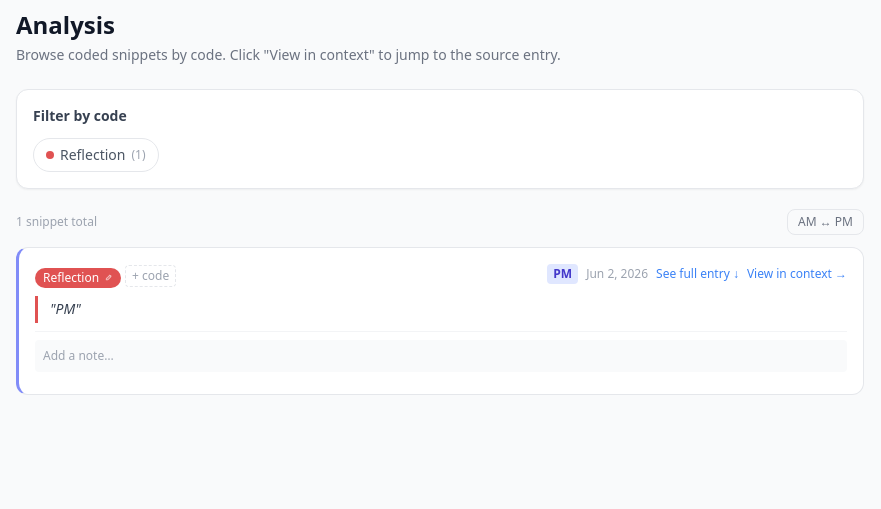
AnalysisView – AM ↔ PM compare mode › shows a placeholder for a day that has no AM snippets
The width and height of the screenshot is (881, 509).
Click the button "AM ↔ PM": (826,222) top-left (787, 209), bottom-right (864, 235)
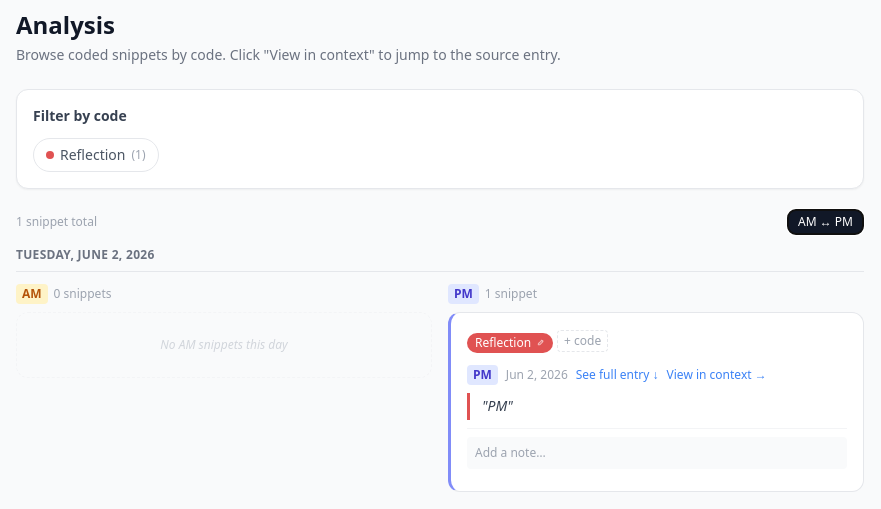
Now the text "No AM snippets this day" is shown, box top-left (16, 312), bottom-right (432, 378)
